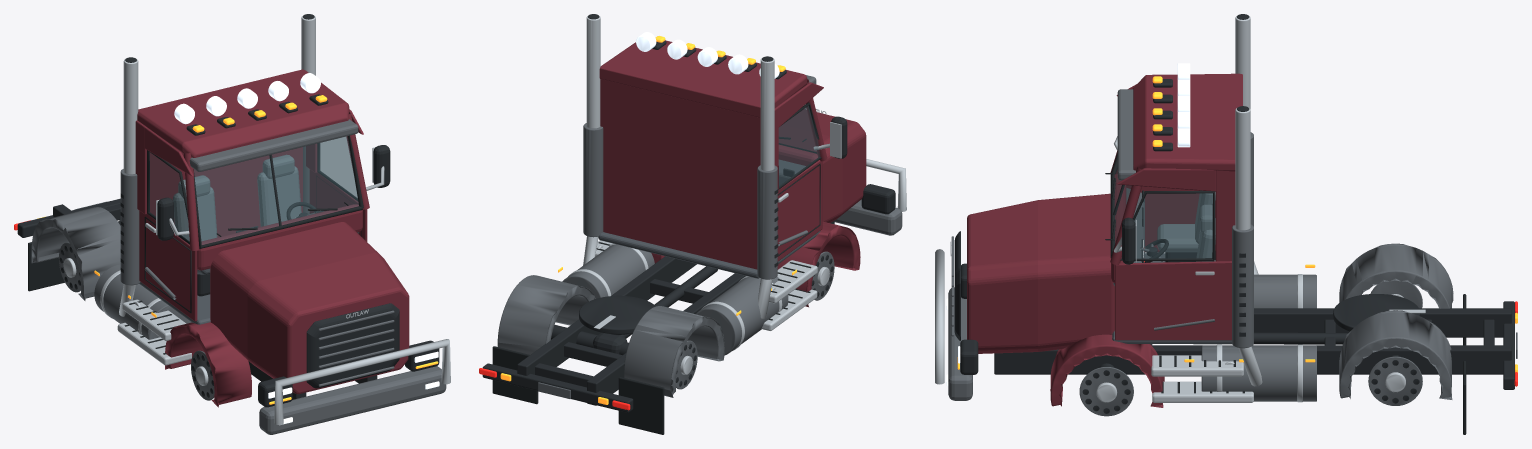
File: Outlaw.fbx
3 renders of one model, left to right at view 1: azimuth 30°, elevation 25°; view 2: azimuth 150°, elevation 25°; view 3: azimuth 270°, elevation 25°, orthographic. The views are drawn at different scales.
Visible parts, largest first — view 1: CabExterior__TT_Paint_Primary, Chassis__TT_Paint_Primary, Chassis__TT_MetalTrim, CabExterior__TT_Glass, Chassis__TT_Chassis, Chassis__TT_Chrome, CabInterior__TT_Fabric, CabExterior__TT_Rubber, CabExterior__TT_MetalTrim, CabExterior__TT_Chrome, CabExterior__TT_Chassis, LampHighBeam__TT_Headlamp (+6 smaller); view 2: CabExterior__TT_Paint_Primary, Chassis__TT_MetalTrim, Chassis__TT_Chassis, Chassis__TT_Paint_Primary, Chassis__TT_Chrome, Chassis__TT_Rubber, CabExterior__TT_Glass, CabExterior__TT_Chrome, CabInterior__TT_Interior, LampHighBeam__TT_Headlamp, CabExterior__TT_Rubber, CabExterior__TT_Chassis (+3 smaller); view 3: Chassis__TT_Paint_Primary, CabExterior__TT_Paint_Primary, Chassis__TT_MetalTrim, Chassis__TT_Chassis, Chassis__TT_Chrome, CabExterior__TT_Glass, CabExterior__TT_Chrome, CabInterior__TT_Fabric, CabExterior__TT_Rubber, Wheel_RL__TT_MetalTrim, Wheel_FL__TT_MetalTrim, CabExterior__TT_MetalTrim (+4 smaller).
Part boxes in pixels (x1=…): CabExterior__TT_Paint_Primary: x1=135, y1=69, x2=369, y2=321; Chassis__TT_Paint_Primary: x1=165, y1=222, x2=409, y2=407; Chassis__TT_MetalTrim: x1=31, y1=146, x2=446, y2=434; CabExterior__TT_Glass: x1=148, y1=136, x2=358, y2=244; Chassis__TT_Chassis: x1=17, y1=14, x2=439, y2=407; Chassis__TT_Chrome: x1=100, y1=16, x2=450, y2=425; CabInterior__TT_Fabric: x1=173, y1=154, x2=301, y2=240; CabExterior__TT_Rubber: x1=124, y1=135, x2=363, y2=354; CabExterior__TT_MetalTrim: x1=189, y1=119, x2=358, y2=171; CabExterior__TT_Chrome: x1=117, y1=166, x2=384, y2=365; CabExterior__TT_Chassis: x1=157, y1=94, x2=390, y2=240; LampHighBeam__TT_Headlamp: x1=174, y1=73, x2=320, y2=124; CabExterior__TT_Paint_Primary: x1=599, y1=40, x2=827, y2=269; Chassis__TT_MetalTrim: x1=497, y1=123, x2=902, y2=398; Chassis__TT_Chassis: x1=482, y1=14, x2=895, y2=412; Chassis__TT_Paint_Primary: x1=651, y1=109, x2=866, y2=307; Chassis__TT_Chrome: x1=568, y1=16, x2=906, y2=350; Chassis__TT_Rubber: x1=492, y1=139, x2=806, y2=434; CabExterior__TT_Glass: x1=778, y1=106, x2=820, y2=186; CabExterior__TT_Chrome: x1=595, y1=143, x2=829, y2=330; CabInterior__TT_Interior: x1=598, y1=159, x2=820, y2=278; LampHighBeam__TT_Headlamp: x1=636, y1=32, x2=779, y2=78; CabExterior__TT_Rubber: x1=596, y1=102, x2=821, y2=320; CabExterior__TT_Chassis: x1=652, y1=40, x2=847, y2=158; Chassis__TT_Paint_Primary: x1=967, y1=193, x2=1164, y2=407; CabExterior__TT_Paint_Primary: x1=1110, y1=73, x2=1242, y2=340; Chassis__TT_MetalTrim: x1=948, y1=132, x2=1517, y2=401; Chassis__TT_Chassis: x1=954, y1=14, x2=1514, y2=389; Chassis__TT_Chrome: x1=935, y1=16, x2=1425, y2=402; CabExterior__TT_Glass: x1=1114, y1=164, x2=1212, y2=258; CabExterior__TT_Chrome: x1=1114, y1=136, x2=1253, y2=402; CabInterior__TT_Fabric: x1=1157, y1=190, x2=1215, y2=261; CabExterior__TT_Rubber: x1=1110, y1=153, x2=1244, y2=393; Wheel_RL__TT_MetalTrim: x1=1368, y1=356, x2=1422, y2=405; Wheel_FL__TT_MetalTrim: x1=1079, y1=367, x2=1133, y2=416; CabExterior__TT_MetalTrim: x1=1117, y1=89, x2=1135, y2=180.
Size of the model in its own units: 312 by 398 by 642.
